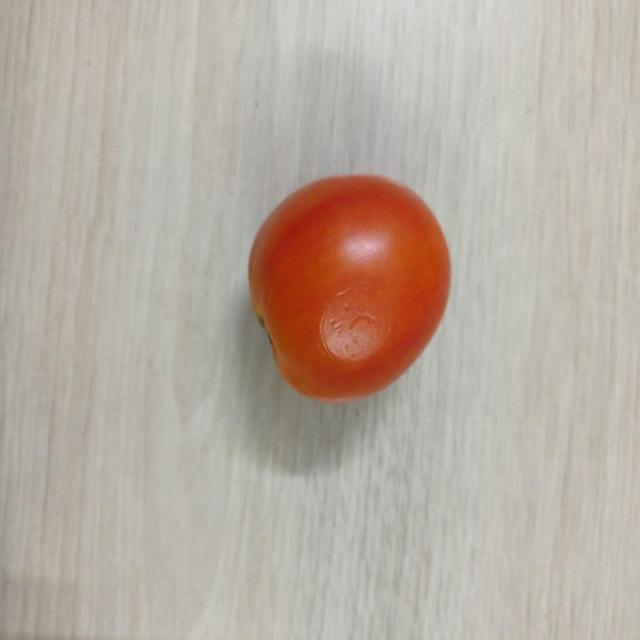Tomato: (244, 170, 455, 404)
